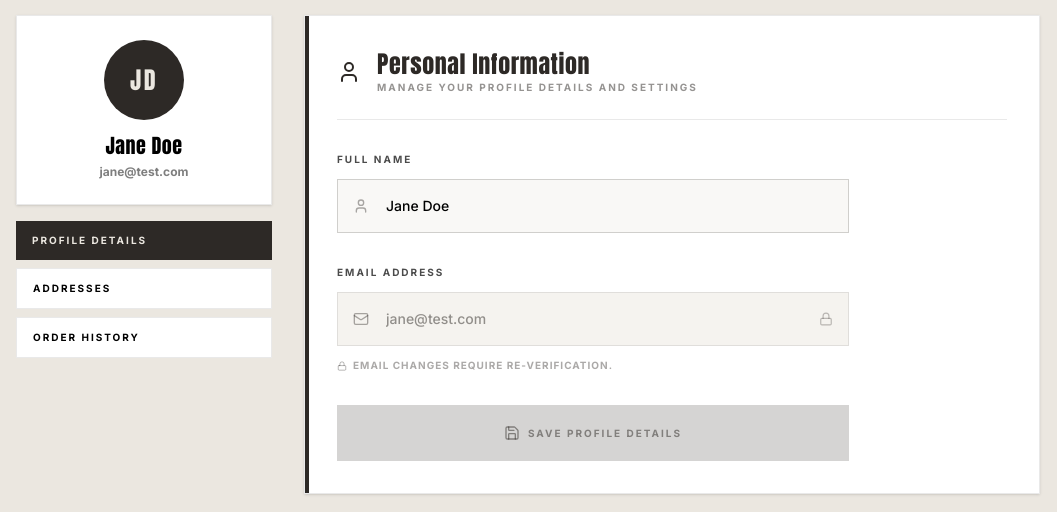
Test case: Profile › switches to Addresses tab
The width and height of the screenshot is (1057, 512).
Click the button "Addresses".
click(144, 288)  # box [16,268,272,309]
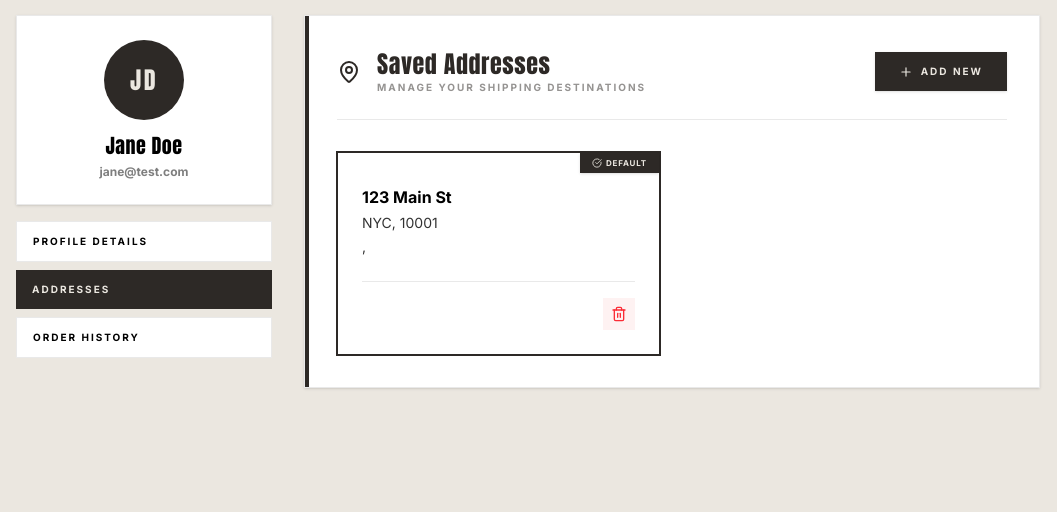
Check: the heading "Saved Addresses" is shown, box [377,46,550,82]
Check: the text "123 Main St" is shown, box [362,187,452,207]
